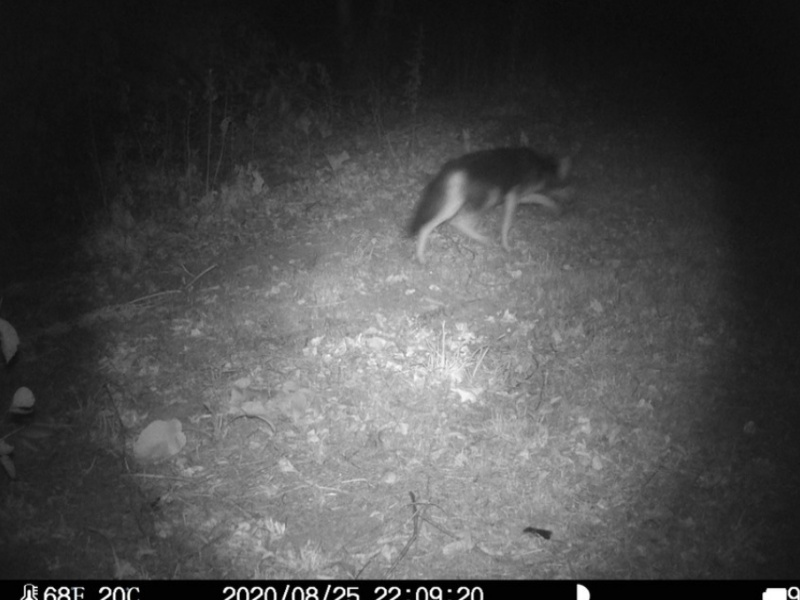dog: (398, 148, 589, 263)
